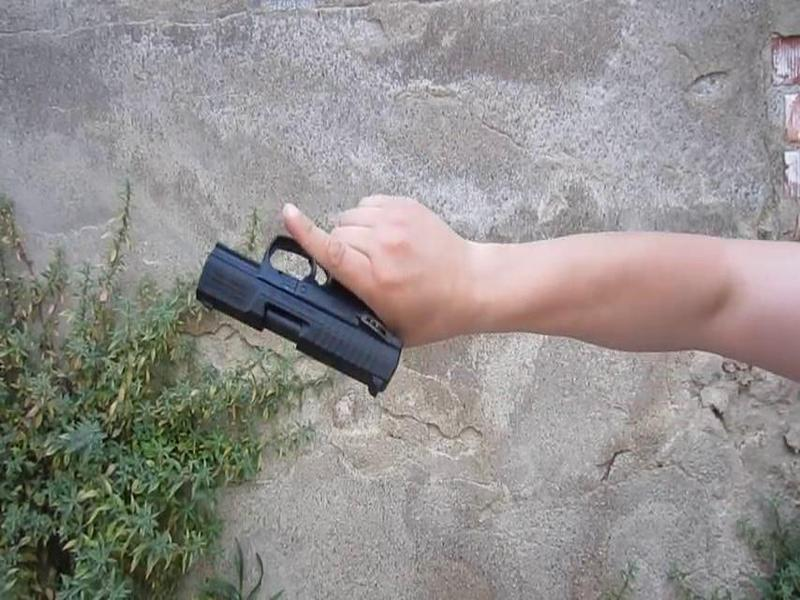Pistola: (182, 193, 429, 415)
